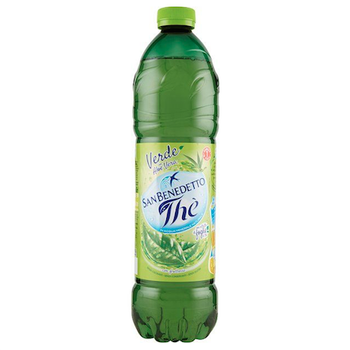PlasticBottle: (122, 5, 229, 341)
